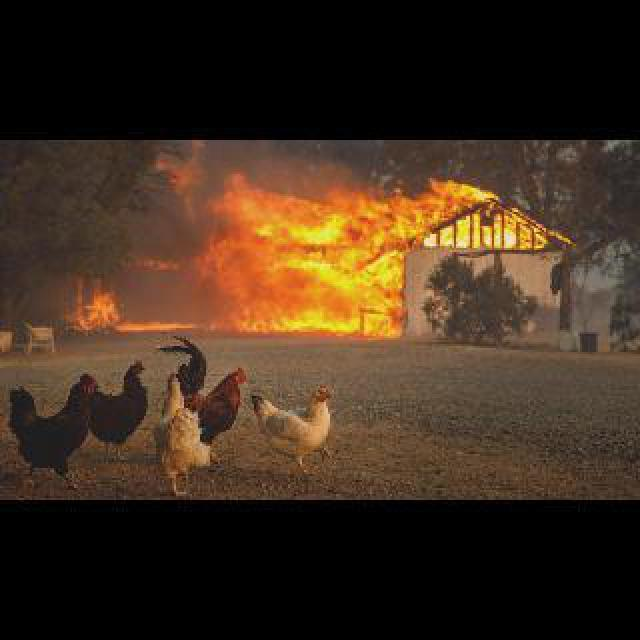fire: (204, 150, 586, 338), (64, 276, 202, 334)
